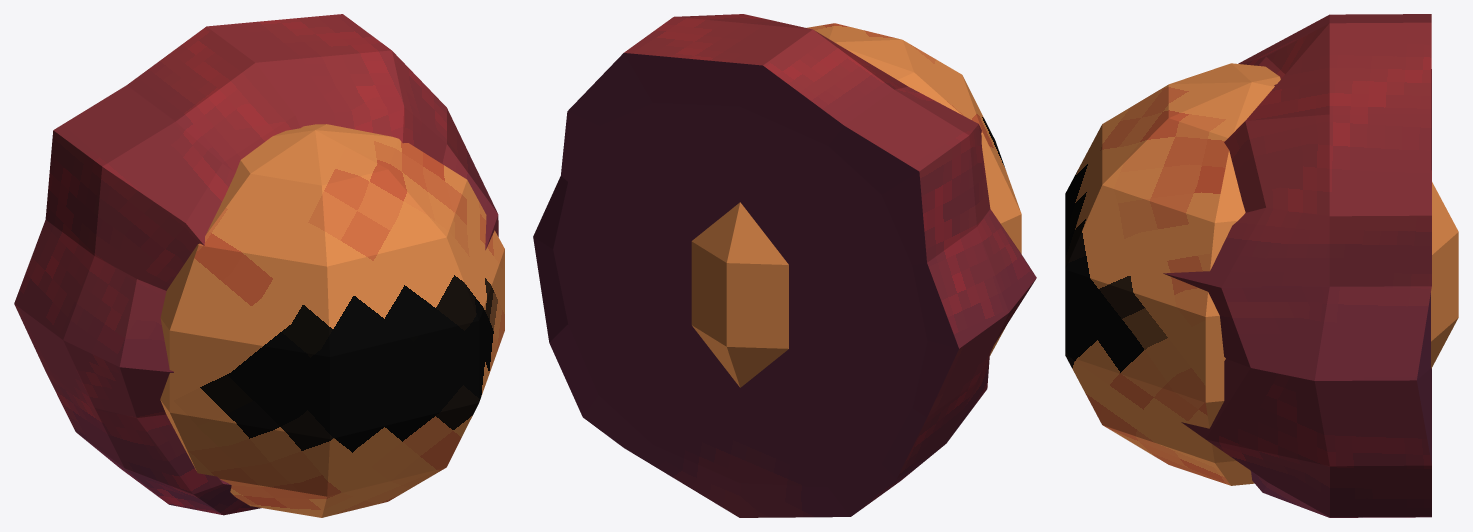
The model's file is EyeOfBaal.glb.
3 renders of one model, left to right at view 1: azimuth 30°, elevation 25°; view 2: azimuth 150°, elevation 25°; view 3: azimuth 270°, elevation 25°, orthographic. The views are drawn at different scales.
Parts seen in each view (by area): view 1: Sphere, Cube; view 2: Cube, Sphere; view 3: Cube, Sphere.
Part boxes in pixels (x1,y1,x2,y2): Sphere: (160, 124, 504, 517); Cube: (14, 14, 498, 515); Cube: (533, 14, 1036, 517); Sphere: (691, 23, 1021, 387); Cube: (1163, 14, 1431, 517); Sphere: (1065, 63, 1458, 485).
Bounding box in the file's own units: 2.41 × 2.43 × 1.85.
2 materials, 2 textured.
